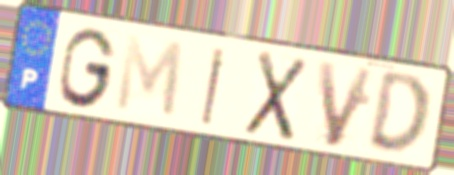D: (364, 71, 433, 160)
G: (56, 25, 119, 111)
I: (198, 43, 230, 128)
M: (112, 31, 187, 123)
V: (314, 58, 379, 151)
X: (241, 47, 311, 145)
